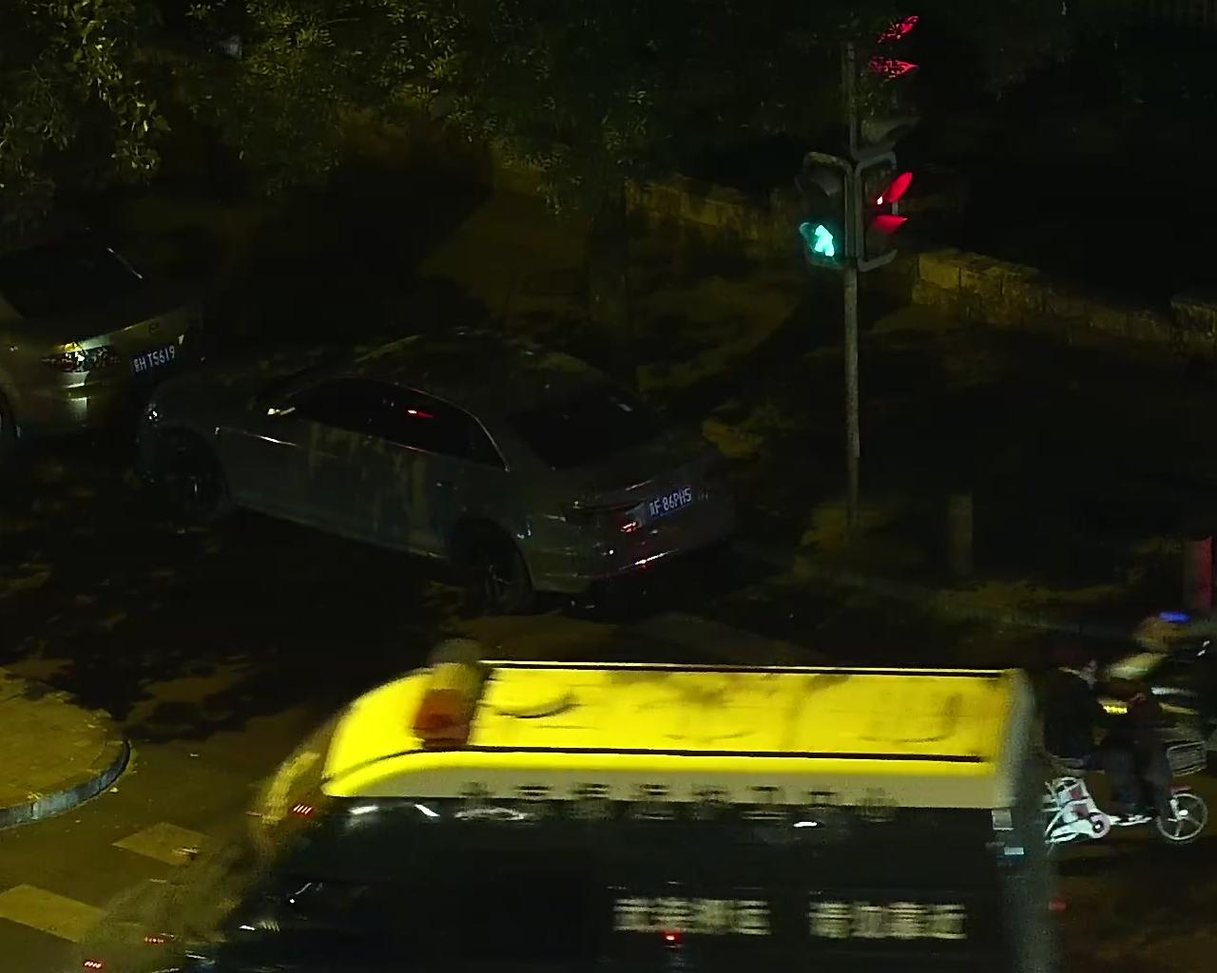person: (185, 36, 282, 238), (1045, 635, 1148, 807)
